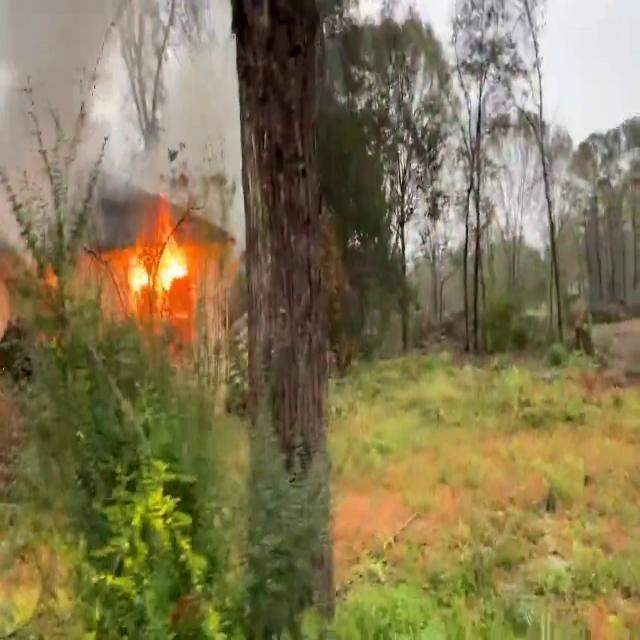Fire: (111, 208, 197, 314)
Smoke: (0, 0, 225, 226)
